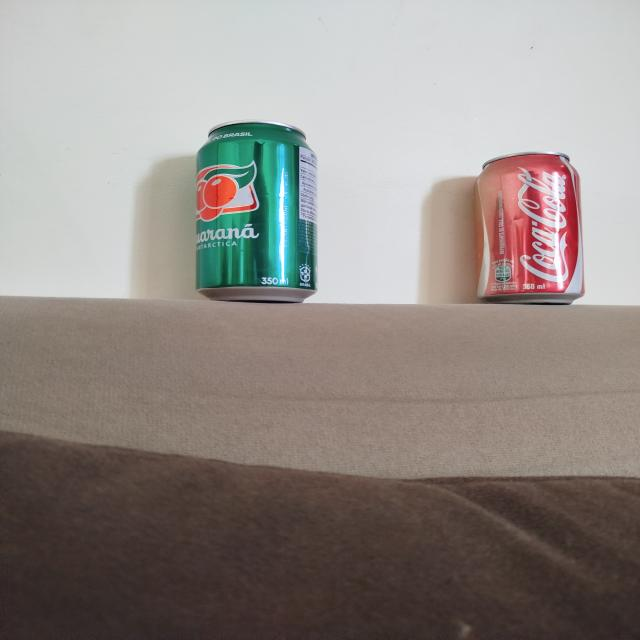Coca Cola: (476, 152, 584, 304)
Guarana: (195, 120, 319, 300)
